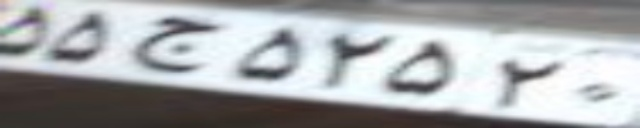0: (573, 80, 619, 104)
2: (325, 33, 388, 87), (496, 58, 561, 106)
5: (384, 39, 453, 95), (236, 28, 299, 81), (46, 12, 105, 63), (0, 6, 47, 57)
jim: (131, 15, 218, 74)
